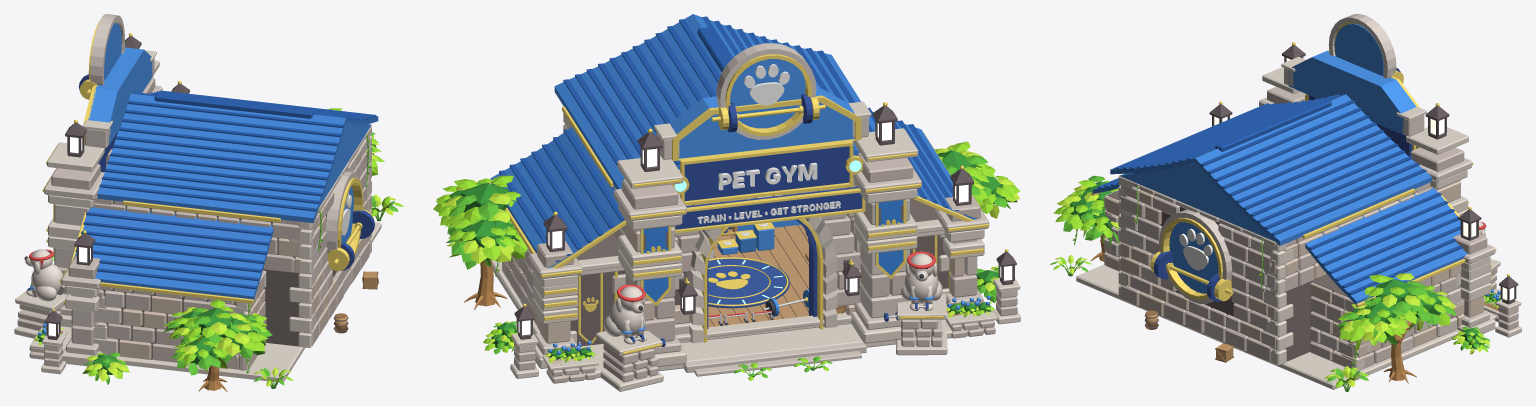
File: TowerOfPets_PetGym.fbx
3 views of the same model, side by side, from view 1: azimuth 30°, elevation 25°; view 2: azimuth 150°, elevation 25°; view 3: azimuth 270°, elevation 25° (orthographic). The views are drawn at different scales.
Visible parts, largest first — view 1: PetGym_Roofs__Gym_Roof, PetGym_Roofs__Gym_Roof_Dark, PetGym_Hall_Walls__Castle_Stone, PetGym_Wings__Castle_Stone, PetGym_Facade__Gym_Blue, PetGym_Wings__Castle_Stone_Light, PetGym_Floor__Castle_Trim, PetGym_Pillars__Castle_Trim, PetGym_Hall_Walls__Castle_Seam, PetGym_Hall_Walls__Castle_Trim, PetGym_Wings__Castle_Stone_Warm, PetGym_Land_Tree_Small_3__Leaves_Light (+27 smaller); view 2: PetGym_Roofs__Gym_Roof, PetGym_Roofs__Gym_Roof_Dark, PetGym_Pillars__Castle_Trim, PetGym_Sign__Gym_Blue_Dark, PetGym_Floor__Castle_Trim, PetGym_Facade__Gym_Blue, PetGym_Pillars__Castle_Stone, PetGym_Wings__Castle_Trim, PetGym_Floor__Gym_Wood_Floor, PetGym_Pillars__Castle_Stone_Light, PetGym_Wings__Castle_Seam, PetGym_Slogan_Band__Gym_Blue_Dark (+52 smaller); view 3: PetGym_Roofs__Gym_Roof, PetGym_Roofs__Gym_Roof_Dark, PetGym_Hall_Walls__Castle_Stone, PetGym_Facade__Gym_Blue, PetGym_Hall_Walls__Castle_Stone_Warm, PetGym_Roofs__Gym_Blue, PetGym_Wings__Castle_Stone, PetGym_Floor__Castle_Trim, PetGym_Hall_Walls__Castle_Stone_Light, PetGym_Hall_Walls__Castle_Trim, PetGym_Wings__Castle_Stone_Warm, PetGym_Wings__Castle_Trim (+26 smaller).
Part boxes in pixels (x1,y1,x2,y2): PetGym_Roofs__Gym_Roof: (74, 93, 378, 300); PetGym_Roofs__Gym_Roof_Dark: (73, 90, 376, 289); PetGym_Hall_Walls__Castle_Stone: (93, 146, 371, 345); PetGym_Wings__Castle_Stone: (68, 256, 266, 370); PetGym_Facade__Gym_Blue: (88, 47, 152, 145); PetGym_Wings__Castle_Stone_Light: (61, 268, 266, 364); PetGym_Floor__Castle_Trim: (62, 222, 381, 382); PetGym_Pillars__Castle_Trim: (47, 60, 159, 327); PetGym_Hall_Walls__Castle_Seam: (113, 201, 336, 346); PetGym_Hall_Walls__Castle_Trim: (289, 124, 371, 347); PetGym_Wings__Castle_Stone_Warm: (113, 288, 265, 369); PetGym_Land_Tree_Small_3__Leaves_Light: (164, 299, 267, 372); PetGym_Roofs__Gym_Roof: (490, 14, 977, 267); PetGym_Roofs__Gym_Roof_Dark: (499, 16, 966, 261); PetGym_Pillars__Castle_Trim: (617, 128, 918, 366); PetGym_Sign__Gym_Blue_Dark: (684, 146, 849, 201); PetGym_Floor__Castle_Trim: (491, 227, 983, 381); PetGym_Facade__Gym_Blue: (670, 85, 854, 158); PetGym_Pillars__Castle_Stone: (622, 153, 913, 341); PetGym_Wings__Castle_Trim: (502, 219, 985, 368); PetGym_Floor__Gym_Wood_Floor: (708, 224, 808, 327); PetGym_Pillars__Castle_Stone_Light: (613, 168, 921, 354); PetGym_Wings__Castle_Seam: (570, 199, 948, 346); PetGym_Slogan_Band__Gym_Blue_Dark: (675, 187, 861, 229); PetGym_Roofs__Gym_Roof: (1092, 94, 1467, 304); PetGym_Roofs__Gym_Roof_Dark: (1097, 94, 1462, 294); PetGym_Hall_Walls__Castle_Stone: (1120, 177, 1418, 362); PetGym_Facade__Gym_Blue: (1288, 50, 1416, 134); PetGym_Hall_Walls__Castle_Stone_Warm: (1120, 185, 1338, 341); PetGym_Roofs__Gym_Blue: (1120, 163, 1273, 240); PetGym_Wings__Castle_Stone: (1106, 190, 1487, 368); PetGym_Floor__Castle_Trim: (1076, 264, 1496, 389); PetGym_Hall_Walls__Castle_Stone_Light: (1120, 182, 1430, 364); PetGym_Hall_Walls__Castle_Trim: (1118, 173, 1293, 365); PetGym_Wings__Castle_Stone_Warm: (1106, 196, 1483, 368); PetGym_Wings__Castle_Trim: (1104, 194, 1495, 371).
Bounding box in the file's own units: 7268 × 4303 × 7253.
